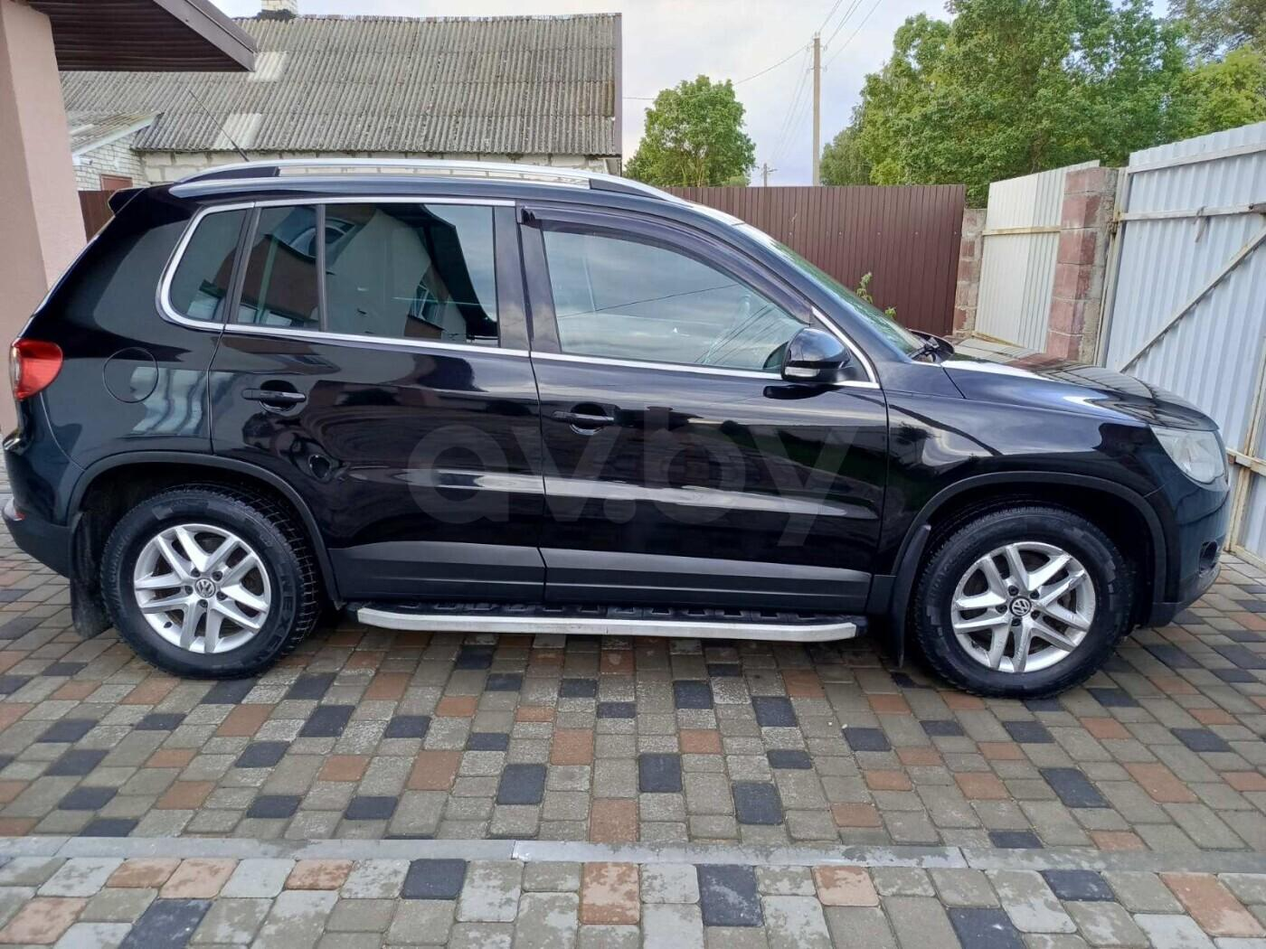Tiguan_2007-2011: (3, 156, 1234, 697)
